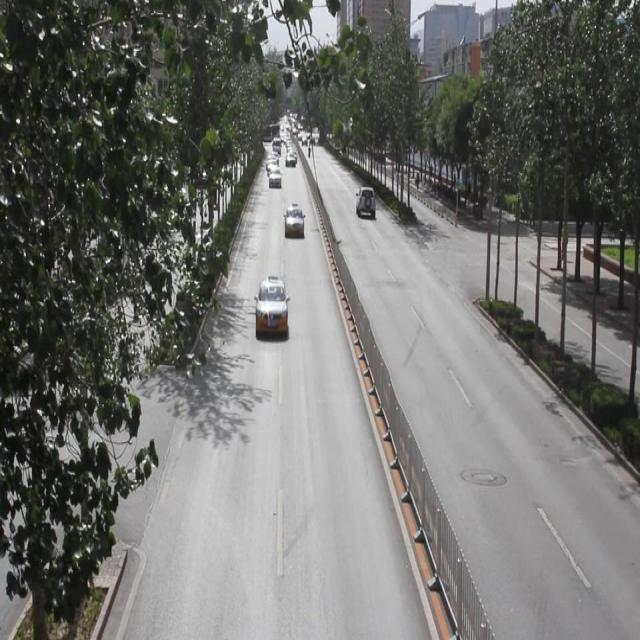car: (256, 274, 288, 338), (283, 203, 304, 240), (356, 184, 374, 217)
